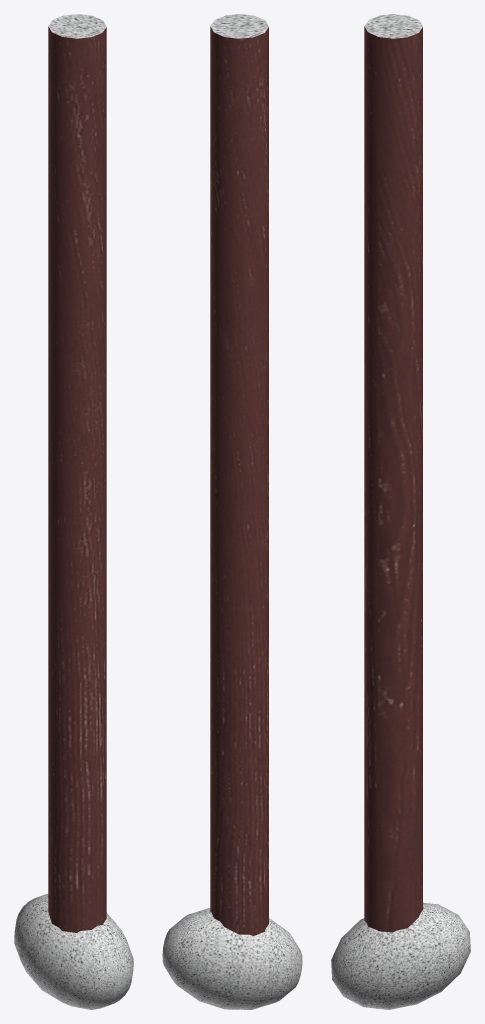
File: SM_Geumsan_Mi_Pillar_E.fbx
3 views of the same model, side by side, from view 1: azimuth 90°, elevation 25°; view 2: azimuth 150°, elevation 25°; view 3: azimuth 330°, elevation 25° (orthographic).
Visible parts, largest first — view 1: SM_Geumsan_Mi_Pillar_E; view 2: SM_Geumsan_Mi_Pillar_E; view 3: SM_Geumsan_Mi_Pillar_E.
Part boxes in pixels (x1,y1,x2,y2): SM_Geumsan_Mi_Pillar_E: (14, 14, 133, 1009); SM_Geumsan_Mi_Pillar_E: (162, 14, 302, 1009); SM_Geumsan_Mi_Pillar_E: (331, 14, 470, 1009).
Size of the model in its own units: 36.06 by 316 by 35.08.
